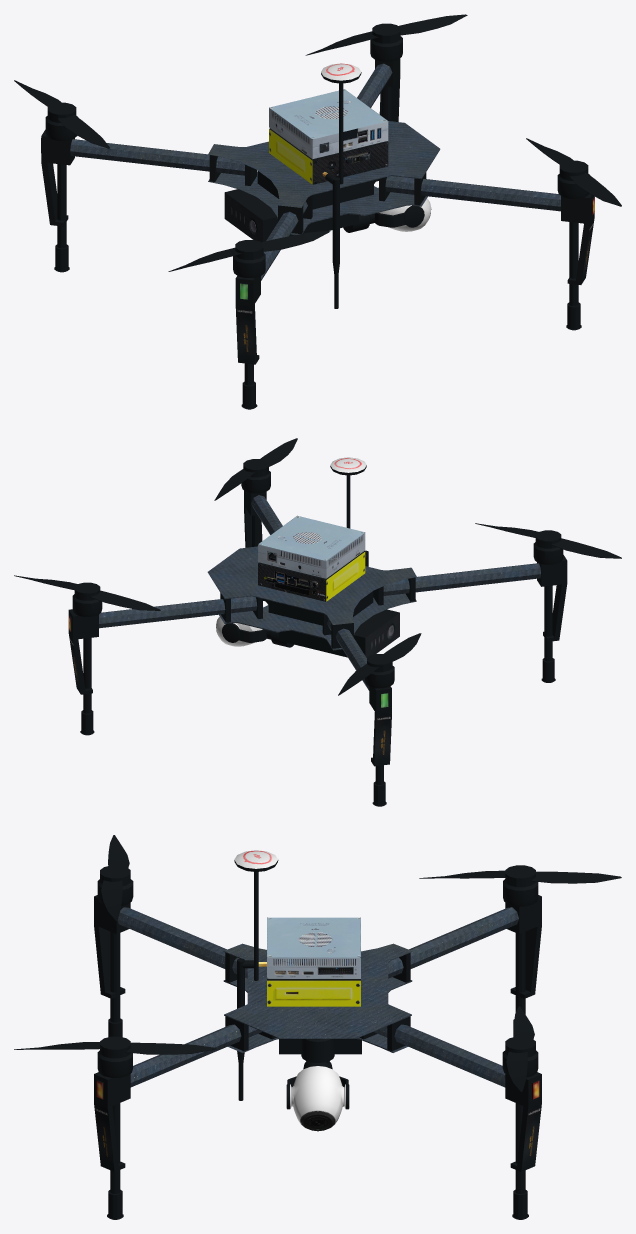
Rendered from Dji Matrice 100 low Poly rev 05.fbx.
3 views of the same model, one above another, from view 1: azimuth 30°, elevation 25°; view 2: azimuth 150°, elevation 25°; view 3: azimuth 270°, elevation 25° (orthographic). The views are drawn at different scales.
Visible parts, largest first — view 1: Drone, MeshPropeller01, MeshPropeller03, MeshPropeller04, MeshPropeller02; view 2: Drone, MeshPropeller03, MeshPropeller01, MeshPropeller04, MeshPropeller02; view 3: Drone, MeshPropeller04, MeshPropeller02, MeshPropeller01, MeshPropeller03.
Boxes of the visible parts, x1=… form: Drone: x1=41, y1=36, x2=594, y2=409; MeshPropeller01: x1=305, y1=14, x2=467, y2=55; MeshPropeller03: x1=168, y1=231, x2=330, y2=271; MeshPropeller04: x1=14, y1=80, x2=109, y2=148; MeshPropeller02: x1=526, y1=138, x2=621, y2=206; Drone: x1=68, y1=457, x2=567, y2=806; MeshPropeller03: x1=475, y1=523, x2=621, y2=558; MeshPropeller01: x1=14, y1=575, x2=160, y2=610; MeshPropeller04: x1=338, y1=633, x2=421, y2=695; MeshPropeller02: x1=214, y1=438, x2=297, y2=500; Drone: x1=94, y1=850, x2=541, y2=1219; MeshPropeller04: x1=419, y1=865, x2=621, y2=887; MeshPropeller02: x1=14, y1=1036, x2=216, y2=1058; MeshPropeller01: x1=505, y1=1006, x2=535, y2=1092; MeshPropeller03: x1=100, y1=835, x2=130, y2=920.
Bounding box in the file's own units: 68.96 × 68.96 × 34.14.
Materials: 1 (1 with a texture image).
